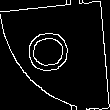O_E: (30, 30, 80, 80)
